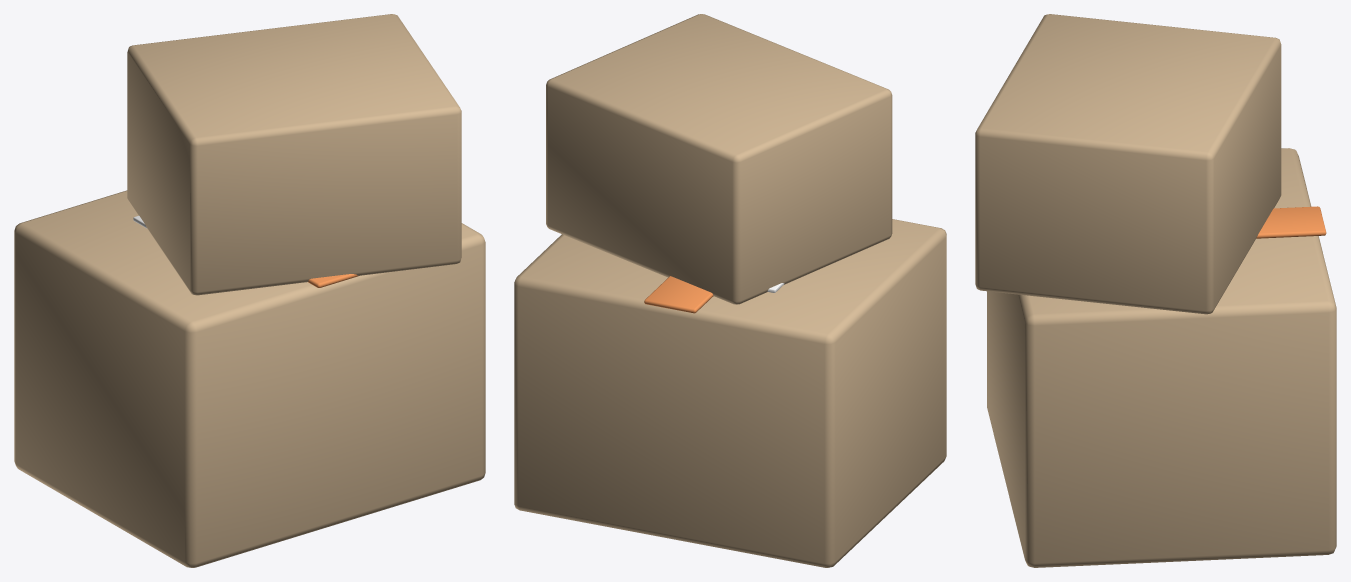
The model's file is Indo_Paket_Shopee.fbx.
3 renders of one model, left to right at view 1: azimuth 30°, elevation 25°; view 2: azimuth 150°, elevation 25°; view 3: azimuth 270°, elevation 25°, orthographic. The views are drawn at different scales.
Parts seen in each view (by area): view 1: Indo_Paket_Boxes; view 2: Indo_Paket_Boxes; view 3: Indo_Paket_Boxes.
Boxes of the visible parts, x1,y1,x2,y2 form: Indo_Paket_Boxes: (14,14,485,567); Indo_Paket_Boxes: (514,14,946,567); Indo_Paket_Boxes: (975,14,1336,567).
Size of the model in its own units: 36.57 by 41 by 32.29.
